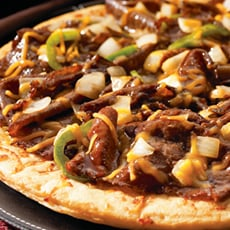sandwich: (1, 1, 230, 229)
